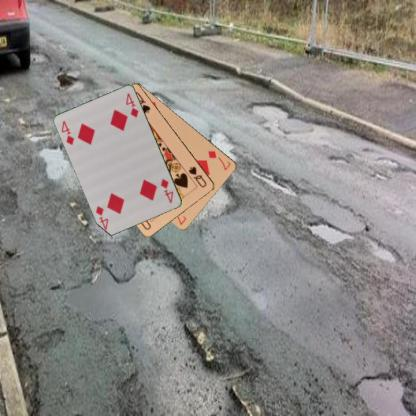4d: (158, 176, 175, 205), (59, 118, 76, 147)
7d: (206, 148, 232, 172)
Qs: (186, 164, 208, 189)
